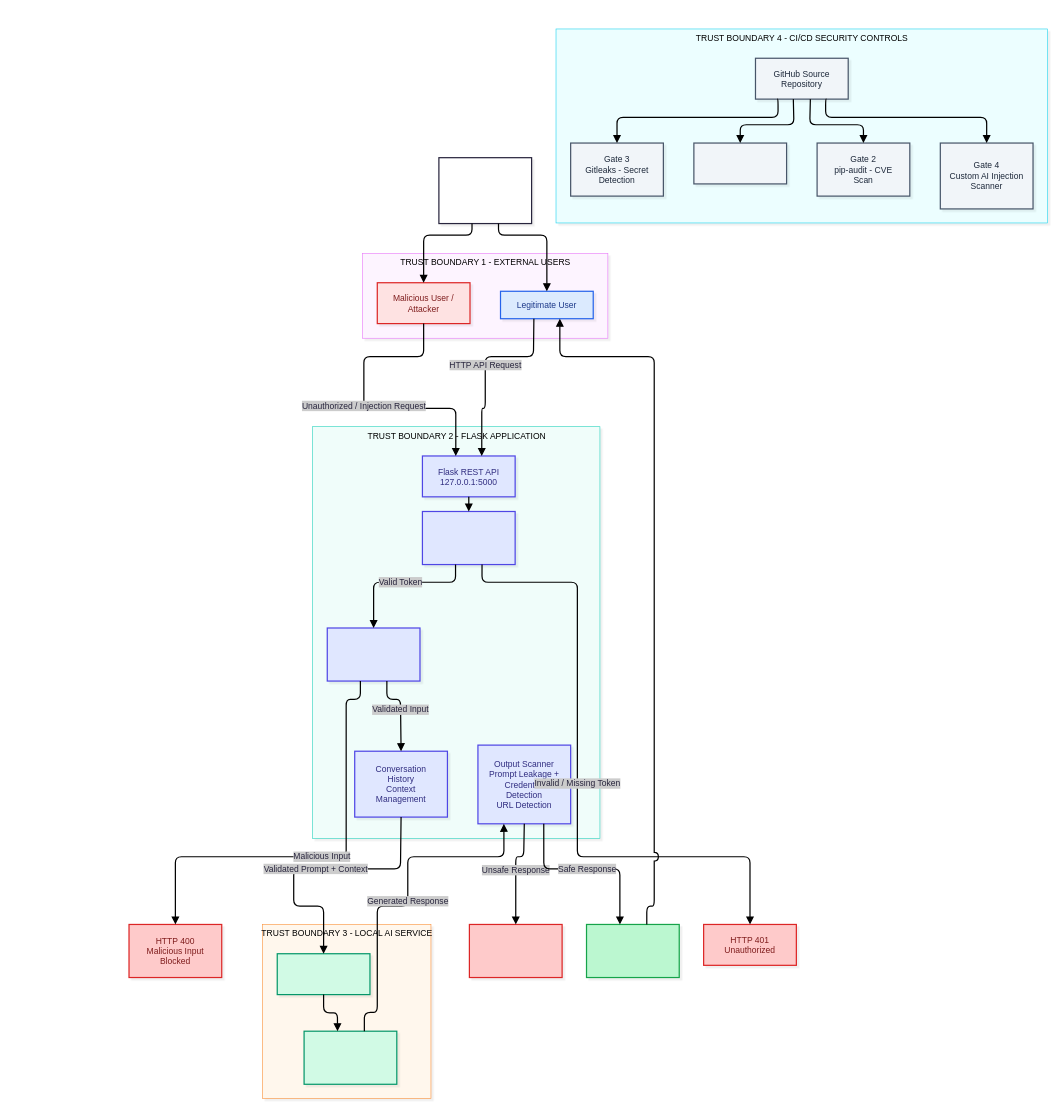
Image size: 1061x1111. Some labels were removed from this diagram. The centre of each missing label's shape, as x and y in pixels:
"Gate 1 Bandit - SAST" goes at point (741, 164).
"HTTP 200 Approved AI Response" goes at point (634, 952).
"Input Validation Length + Regex + Base64" goes at point (374, 655).
"JWT Authentication PyJWT - HS256" goes at point (470, 539).
"Llama 3.2:1b Local Language Model" goes at point (351, 1058).
"Ollama API localhost:11434" goes at point (324, 975).
"PROJECT 9 - END-TO-END SECURE AI APPLICATION THREAT MODEL" goes at point (486, 191).
"Response Blocked Unsafe Output" goes at point (516, 952).
